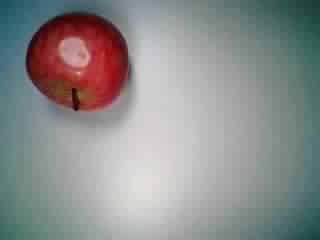apple: (25, 11, 129, 112)
